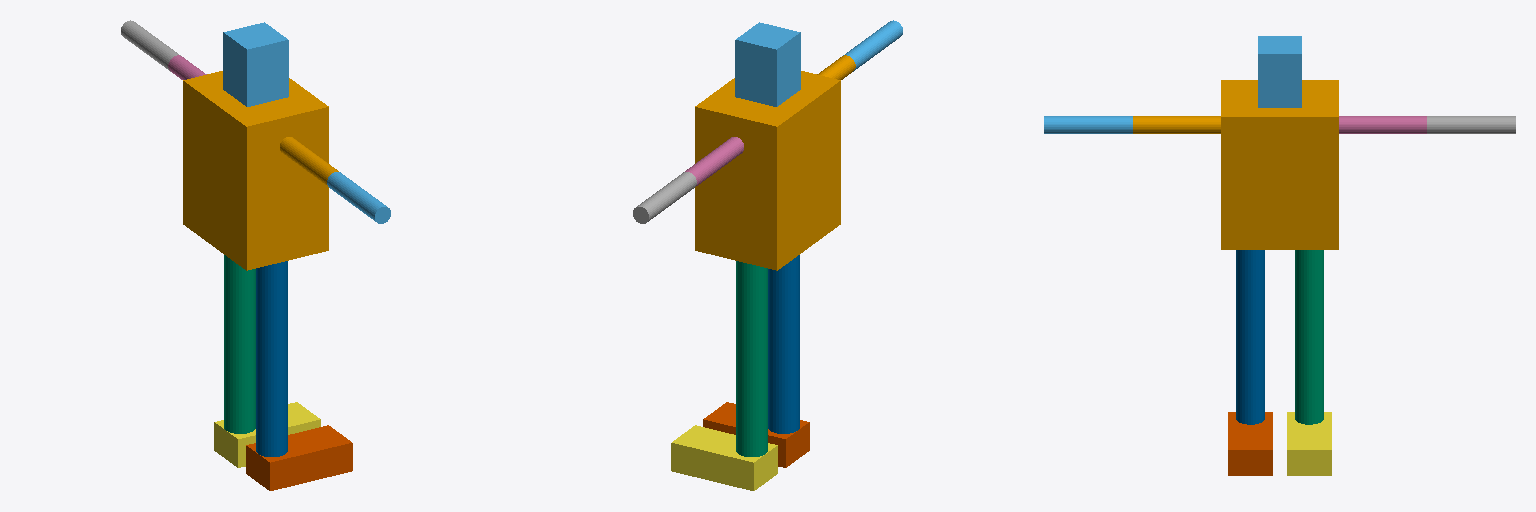
The robot description file, URDF, robot "humanoid":
<?xml version="1.4"?>
<robot name="humanoid">

  <link name="Torso_link">
    <inertial>
        <mass value="10" />
        <inertia ixx="0.375" ixy="0.0" ixz="0.0" iyy="0.31875" iyz="0.0" izz="0.09375"/>
    </inertial>
    <collision>
    <origin rpy="0.0 0.0 0.0" xyz="0.0 0.0 1.05" />
      <geometry>
        <box size="0.3 0.4 0.5" />
      </geometry>
        </collision>
    <visual>
    <origin rpy="0.0 0.0 0.0" xyz="0.0 0.0 1.05" />
      <geometry>
        <box size="0.3 0.4 0.5" />
      </geometry>
    </visual>
  </link>

  <link name="Head_link">
    <inertial>
        <mass value="1" />
        <inertia ixx="0.0375" ixy="0.0" ixz="0.0" iyy="0.031875" iyz="0.0" izz="0.009375"/>
    </inertial>
    <collision>
    <origin rpy="0.0 0.0 0.0" xyz="0.0 0.0 0.1" />
      <geometry>
        <box size="0.15 0.15 0.2" />
      </geometry>
        </collision>
    <visual>
    <origin rpy="0.0 0.0 0.0" xyz="0.0 0.0 0.1" />
      <geometry>
        <box size="0.15 0.15 0.2" />
      </geometry>
    </visual>
  </link>


  <link name="LeftLeg_link">
    <inertial>
        <mass value="10" />
        <inertia ixx="0.53958" ixy="0.0" ixz="0.0" iyy="0.53958" iyz="0.0" izz="0.0125"/>
    </inertial>
    <collision>
    <origin rpy="0.0 0.0 0.0" xyz="0.0 0.0 -0.35"/>
      <geometry>
        <cylinder radius="0.05" length="0.7" />
      </geometry>
    </collision>
    <visual>
    <origin rpy="0.0 0.0 0.0" xyz="0.0 0.0 -0.35" />
      <geometry>
        <cylinder radius="0.05" length="0.7" />
      </geometry>
    </visual>
  </link>

  <link name="LeftFoot_link">
    <inertial>
        <mass value="100" />
        <inertia ixx="0.2708" ixy="0.0" ixz="0.0" iyy="0.8333" iyz="0.0" izz="0.9375"/>
    </inertial>
    <collision>
    <origin rpy="0.0 0.0 0.0" xyz="0.1 0.0 -0.05"/>
      <geometry>
        <box size="0.3 0.15 0.1" />
      </geometry>
    </collision>
    <visual>
    <origin rpy="0.0 0.0 0.0" xyz="0.1 0.0 -0.05"/>
      <geometry>
        <box size="0.3 0.15 0.1" />
      </geometry>
    </visual>
  </link>

  <link name="RightLeg_link">
    <inertial>
        <mass value="10" />
        <inertia ixx="0.53958" ixy="0.0" ixz="0.0" iyy="0.53958" iyz="0.0" izz="0.0125"/>
    </inertial>
    <collision>
    <origin rpy="0.0 0.0 0.0" xyz="0.0 -0.0 -0.35" />
      <geometry>
        <cylinder radius="0.05" length="0.7" />
      </geometry>
    </collision>
    <visual>
    <origin rpy="0.0 0.0 0.0" xyz="0.0 -0.0 -0.35" />
      <geometry>
        <cylinder radius="0.05" length="0.7" />
      </geometry>
    </visual>
  </link>

  <link name="RightFoot_link">
    <inertial>
        <mass value="100" />
        <inertia ixx="0.2708" ixy="0.0" ixz="0.0" iyy="0.8333" iyz="0.0" izz="0.9375"/>
    </inertial>
    <collision>
    <origin rpy="0.0 0.0 0.0" xyz="0.1 0.0 -0.05"/>
      <geometry>
        <box size="0.3 0.15 0.1" />
      </geometry>
    </collision>
    <visual>
    <origin rpy="0.0 0.0 0.0" xyz="0.1 0.0 -0.05"/>
      <geometry>
        <box size="0.3 0.15 0.1" />
      </geometry>
    </visual>
  </link>

  <link name="LeftUpperArm_link">
    <inertial>
        <mass value="1" />
        <inertia ixx="0.007725" ixy="0.0" ixz="0.0" iyy="0.007725" iyz="0.0" izz="0.00045"/>
    </inertial>
    <collision>
    <origin rpy="1.5708 0.0 0.0" xyz="0.0 0.15 0.0" />
      <geometry>
        <cylinder radius="0.03" length="0.3" />
      </geometry>
    </collision>
    <visual>
    <origin rpy="1.5708 0.0 0.0" xyz="0.0 0.15 0.0" />
      <geometry>
        <cylinder radius="0.03" length="0.3" />
      </geometry>
    </visual>
  </link>

  <link name="LeftForeArm_link">
    <inertial>
        <mass value="1" />
        <inertia ixx="0.007725" ixy="0.0" ixz="0.0" iyy="0.007725" iyz="0.0" izz="0.00045"/>
    </inertial>
    <collision>
    <origin rpy="1.5708 0.0 0.0" xyz="0.0 0.15 0.0" />
      <geometry>
        <cylinder radius="0.03" length="0.3" />
      </geometry>
    </collision>
    <visual>
    <origin rpy="1.5708 0.0 0.0" xyz="0.0 0.15 0.0" />
      <geometry>
        <cylinder radius="0.03" length="0.3" />
      </geometry>
    </visual>
  </link>

  <link name="RightUpperArm_link">
    <inertial>
        <mass value="1" />
        <inertia ixx="0.007725" ixy="0.0" ixz="0.0" iyy="0.007725" iyz="0.0" izz="0.00045"/>
    </inertial>
    <collision>
    <origin rpy="1.5708 0.0 0.0" xyz="0.0 -0.15 0.0" />
      <geometry>
        <cylinder radius="0.03" length="0.3" />
      </geometry>
    </collision>
    <visual>
    <origin rpy="1.5708 0.0 0.0" xyz="0.0 -0.15 0.0" />
      <geometry>
        <cylinder radius="0.03" length="0.3" />
      </geometry>
    </visual>
  </link>

  <link name="RightForeArm_link">
    <inertial>
        <mass value="1" />
        <inertia ixx="0.007725" ixy="0.0" ixz="0.0" iyy="0.007725" iyz="0.0" izz="0.00045"/>
    </inertial>
    <collision>
    <origin rpy="1.5708 0.0 0.0" xyz="0.0 -0.15 0.0" />
      <geometry>
        <cylinder radius="0.03" length="0.3" />
      </geometry>
    </collision>
    <visual>
    <origin rpy="1.5708 0.0 0.0" xyz="0.0 -0.15 0.0" />
      <geometry>
        <cylinder radius="0.03" length="0.3" />
      </geometry>
    </visual>
  </link>

  <!-- <joint name="base_to_second_joint" type="continuous">
    <parent link="base_link"/>
    <child link="second_link"/>
    <axis xyz="1 0 0"/>
    <origin xyz="0.0 0.0 0.2" rpy="0.0 0.0 0.0"/> 
  </joint> -->



  <joint name="LeftLeg_joint" type="prismatic">
  <origin xyz="0.0 0.1 0.8" rpy="0.0 0.0 0.0"/> 
    <parent link="Torso_link"/>
    <child link="LeftLeg_link"/>
    <axis xyz="0 0 1"/>
    <limit effort="30000" velocity="100.0" lower="-0.3" upper="0.3" />
    <dnamics damping="0.0" friction="0.0" />
  </joint>

  <joint name="RightLeg_joint" type="prismatic">
  <origin xyz="0.0 -0.1 0.8" rpy="0.0 0.0 0.0"/> 
    <parent link="Torso_link"/>
    <child link="RightLeg_link"/>
    <axis xyz="0 0 1"/>
    <limit effort="30000" velocity="100.0" lower="-0.3" upper="0.3" />
    <dnamics damping="0.0" friction="0.0" />
    <mimic joint="LeftLeg_joint" multiplier="1" offset="0"/>
  </joint>

  <joint name="LeftUpperArm_joint" type="revolute">
  <origin xyz="0.0 0.2 1.2" rpy="0.0 0.0 0.0"/> 
    <parent link="Torso_link"/>
    <child link="LeftUpperArm_link"/>
    <axis xyz="1 0 0"/>
    <limit effort="30" velocity="1.0" lower="-0.0" upper="0.0" />
    <dynamics damping="10.0" friction="0.0"/>
  </joint>

  <joint name="LeftForeArm_joint" type="revolute">
  <origin xyz="0.0 0.3 0.0" rpy="0.0 0.0 0.0"/> 
    <parent link="LeftUpperArm_link"/>
    <child link="LeftForeArm_link"/>
    <axis xyz="1 0 0"/>
    <limit effort="30000" velocity="1000.0" lower="-0.5" upper="0.5" />
  </joint>

  <joint name="RightUpperArm_joint" type="revolute" >
  <origin xyz="0.0 -0.2 1.2" rpy="0.0 0.0 0.0"/> 
    <parent link="Torso_link"/>
    <child link="RightUpperArm_link"/>
    <axis xyz="1 0 0"/>
    <limit effort="30" velocity="1.0" lower="-0.0" upper="0.0" />
    <dynamics damping="10.0" friction="0.0"/>
  </joint>

  <joint name="RightForeArm_joint" type="revolute" >
  <origin xyz="0.0 -0.3 0.0" rpy="0.0 0.0 0.0"/> 
    <parent link="RightUpperArm_link"/>
    <child link="RightForeArm_link"/>
    <axis xyz="1 0 0"/>
    <limit effort="30000" velocity="1000.0" lower="-0.5" upper="0.5" />
  </joint>

  <joint name="Head_joint" type="fixed">
  <origin xyz="0.0 0.0 1.3" rpy="0.0 0.0 0.0"/> 
    <parent link="Torso_link"/>
    <child link="Head_link"/>
    <axis xyz="0 0 1"/>
  </joint>

  <joint name="LeftFoot_joint" type="fixed">
  <origin xyz="0.0 0.0 -0.7" rpy="0.0 0.0 0.0"/> 
    <parent link="LeftLeg_link"/>
    <child link="LeftFoot_link"/>
    <axis xyz="0 0 1"/>
  </joint>

  <joint name="RightFoot_joint" type="fixed">
  <origin xyz="0.0 0.0 -0.7" rpy="0.0 0.0 0.0"/> 
    <parent link="RightLeg_link"/>
    <child link="RightFoot_link"/>
    <axis xyz="0 0 1"/>
  </joint>


   <!--                GAZEBO RELATED PART                             -->

  <!-- ROS Control plugin for Gazebo -->
  <gazebo>
    <plugin name="gazebo_ros_control_humanoid" filename="libgazebo_ros_control.so">
      <robotNamespace>/humanoid</robotNamespace>
      <robotParam>humanoid/robot_description</robotParam>
    </plugin>
  </gazebo>


  <!-- <transmission name="rightleg_trans">
    <type>transmission_interface/SimpleTransmission</type>
    <actuator name="motor1">
      <mechanicalReduction>1</mechanicalReduction>
    </actuator>
    <joint name="RightLeg_joint">
      <hardwareInterface>hardware_interface/VelocityJointInterface</hardwareInterface>
    </joint>
  </transmission> -->

  <transmission name="leftleg_trans">
    <type>transmission_interface/SimpleTransmission</type>
    <actuator name="motor2">
      <mechanicalReduction>1</mechanicalReduction>
    </actuator>
    <joint name="LeftLeg_joint">
      <hardwareInterface>VelocityJointInterface</hardwareInterface>
    </joint>
  </transmission>

</robot>

--- What the picture shows (computed from the rendered views, not written in the file) ---
The picture shows the robot from 3 angles, left to right: view 1: azimuth 30°, elevation 25°; view 2: azimuth 150°, elevation 25°; view 3: azimuth 270°, elevation 25°; orthographic projection.
Robot: humanoid — 10 links, 9 joints (4 revolute, 2 prismatic, 3 fixed); root link Torso_link; default pose: every joint at zero.
Links seen in each view (by area): view 1: Torso_link, RightLeg_link, LeftLeg_link, Head_link, RightFoot_link, LeftFoot_link, RightForeArm_link, LeftForeArm_link, RightUpperArm_link, LeftUpperArm_link; view 2: Torso_link, LeftLeg_link, RightLeg_link, Head_link, LeftFoot_link, RightFoot_link, LeftForeArm_link, LeftUpperArm_link, RightForeArm_link, RightUpperArm_link; view 3: Torso_link, LeftLeg_link, RightLeg_link, Head_link, LeftFoot_link, RightFoot_link, LeftForeArm_link, RightForeArm_link, LeftUpperArm_link, RightUpperArm_link.
Boxes of the visible links, <box> form: Torso_link: <box>183,71,328,270</box>; RightLeg_link: <box>256,261,287,456</box>; LeftLeg_link: <box>224,255,255,433</box>; Head_link: <box>223,22,288,106</box>; RightFoot_link: <box>246,425,352,490</box>; LeftFoot_link: <box>214,402,320,467</box>; RightForeArm_link: <box>327,172,390,223</box>; LeftForeArm_link: <box>121,20,180,71</box>; RightUpperArm_link: <box>280,137,338,185</box>; LeftUpperArm_link: <box>168,55,206,79</box>; Torso_link: <box>695,71,840,270</box>; LeftLeg_link: <box>736,261,767,456</box>; RightLeg_link: <box>768,255,799,433</box>; Head_link: <box>735,22,800,106</box>; LeftFoot_link: <box>671,425,777,490</box>; RightFoot_link: <box>703,402,809,467</box>; LeftForeArm_link: <box>633,172,696,223</box>; LeftUpperArm_link: <box>685,137,743,185</box>; RightForeArm_link: <box>843,20,902,71</box>; RightUpperArm_link: <box>817,55,855,79</box>; Torso_link: <box>1221,80,1338,249</box>; LeftLeg_link: <box>1295,250,1323,424</box>; RightLeg_link: <box>1236,250,1264,424</box>; Head_link: <box>1258,36,1301,107</box>; LeftFoot_link: <box>1287,412,1331,475</box>; RightFoot_link: <box>1228,412,1272,475</box>; LeftForeArm_link: <box>1427,116,1515,133</box>; RightForeArm_link: <box>1044,116,1132,133</box>; LeftUpperArm_link: <box>1339,116,1426,133</box>; RightUpperArm_link: <box>1133,116,1220,133</box>.
Size in the robot's own frame: 0.4 by 1.6 by 1.5 metres.
Geometry: primitives only (box / cylinder / sphere), no mesh files.